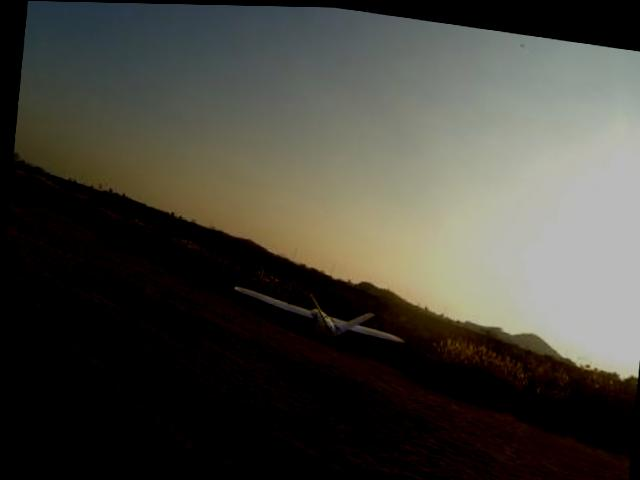uav: (213, 256, 419, 377)
